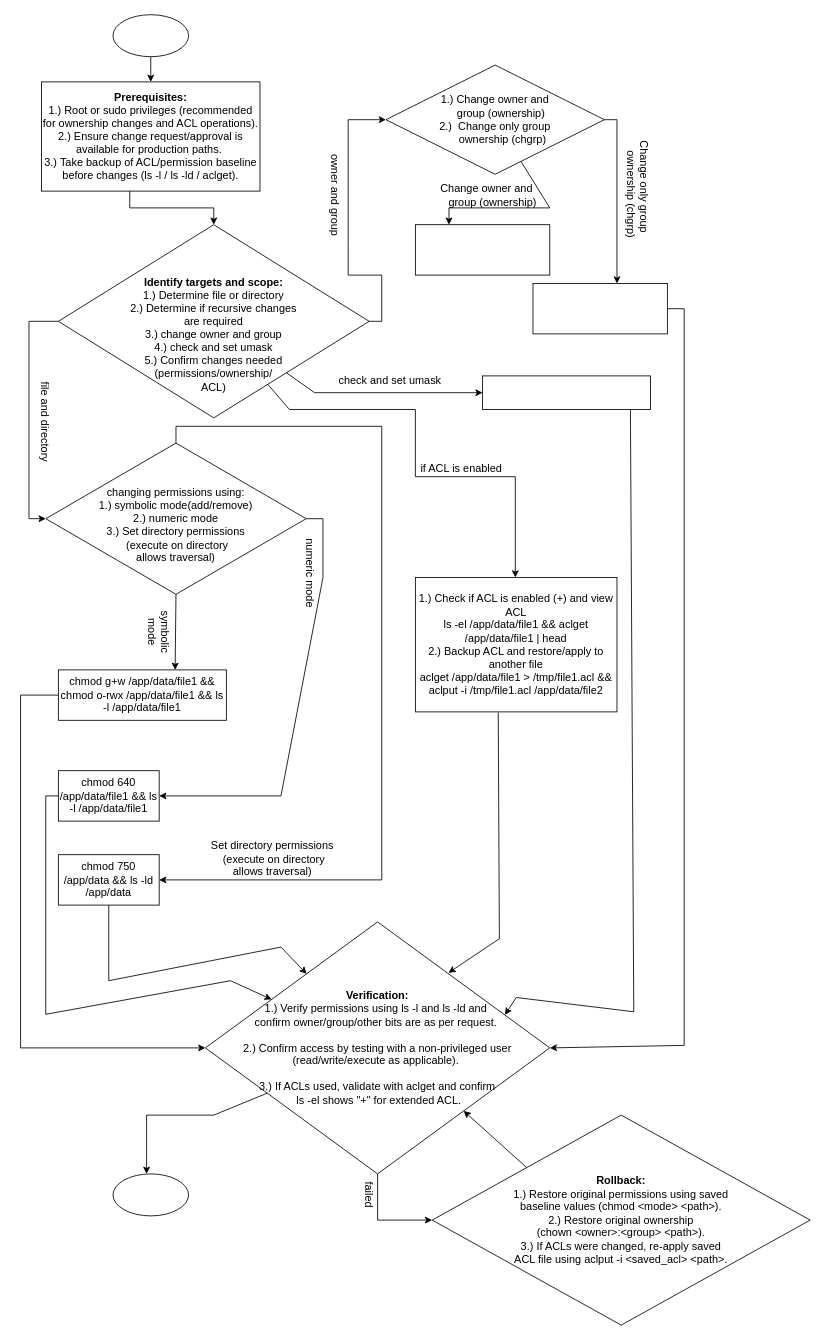
Image size: 825x1340. Some labels were removed from this diagram. The centre of each missing label's shape, as x and y in pixels:
"chgrp appgrp /app/data/file1 && ls -l /app/data/file1" goes at (599,308).
"chown appusr:appgrp /app/data/file1 && ls -l /app/data/file1" goes at (482,249).
"END" goes at (150,1194).
"START" goes at (150,35).
"umask && umask 022 && umask" goes at (566,392).
